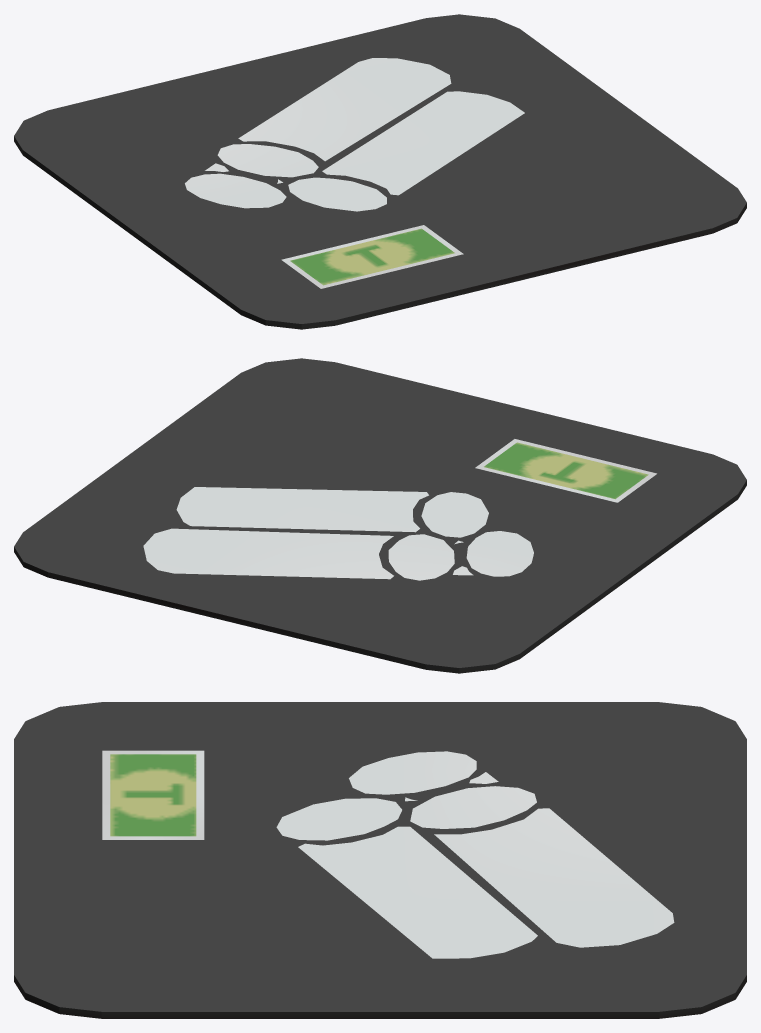
Rendered from tubiao_04_mucai.FBX.
3 views of the same model, one above another, from view 1: azimuth 30°, elevation 25°; view 2: azimuth 150°, elevation 25°; view 3: azimuth 270°, elevation 25° (orthographic). The views are drawn at different scales.
Visible parts, largest first — view 1: tubiao_04_mucai; view 2: tubiao_04_mucai; view 3: tubiao_04_mucai.
Boxes of the visible parts, x1=… form: tubiao_04_mucai: x1=14, y1=14, x2=746, y2=329; tubiao_04_mucai: x1=14, y1=358, x2=746, y2=673; tubiao_04_mucai: x1=14, y1=702, x2=746, y2=1018.
Bounding box in the file's own units: 392 × 4.88 × 392.
